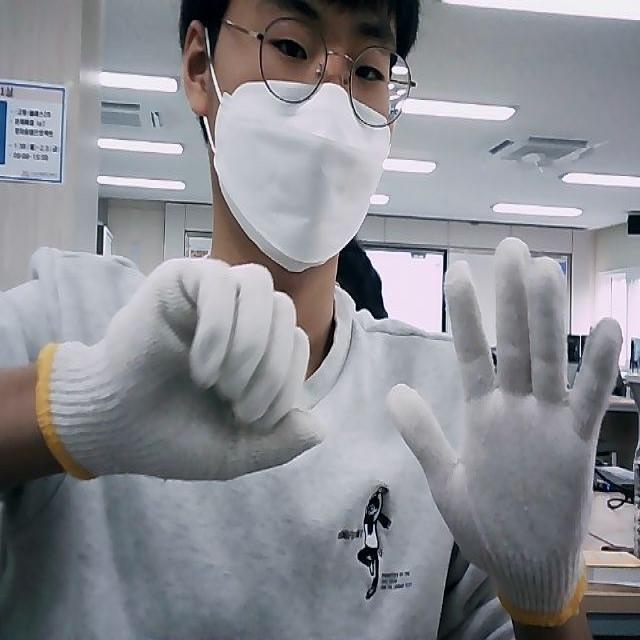Guantes: (390, 235, 622, 626), (35, 253, 328, 483)
